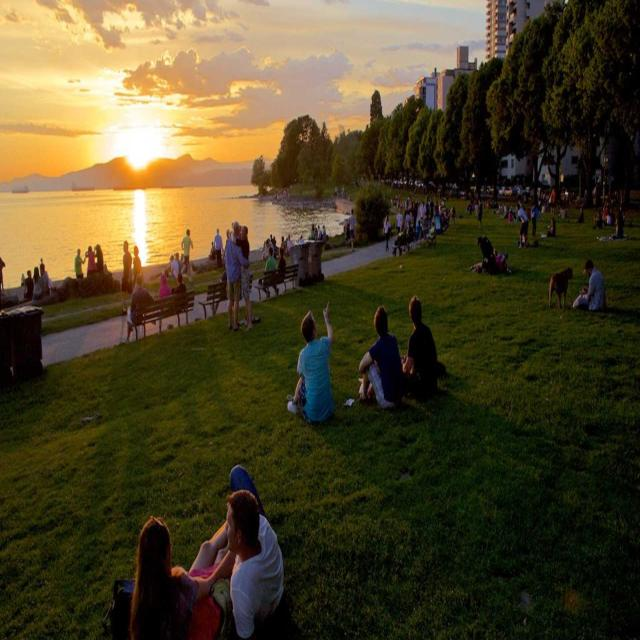body: (261, 173, 640, 277), (0, 222, 246, 317), (129, 515, 231, 640), (222, 462, 286, 640), (286, 298, 336, 425), (357, 300, 406, 410), (400, 295, 438, 400), (224, 220, 251, 332), (230, 225, 253, 332), (125, 272, 155, 343), (578, 256, 606, 314), (157, 272, 172, 333), (179, 226, 195, 282), (261, 246, 277, 298), (120, 240, 132, 305), (514, 202, 530, 250), (170, 270, 188, 312), (275, 246, 286, 285), (213, 226, 223, 268), (347, 208, 356, 252), (74, 247, 86, 279), (382, 214, 392, 252), (85, 245, 96, 278), (133, 245, 141, 288), (94, 244, 104, 273), (423, 220, 435, 240), (549, 188, 556, 216), (478, 197, 483, 226)
